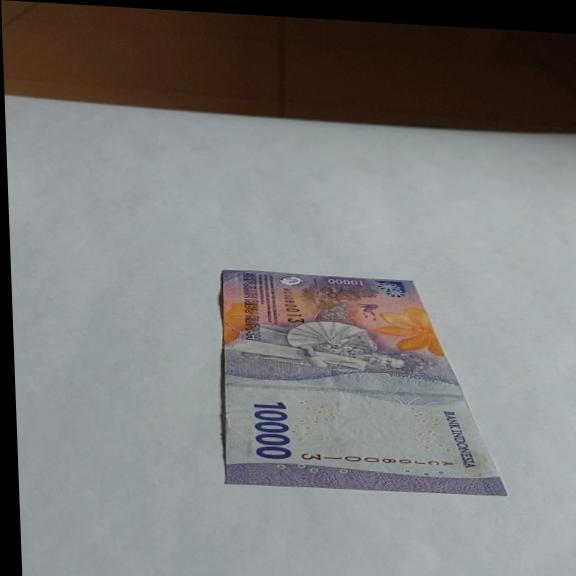Kertas: (215, 267, 508, 500), (251, 399, 293, 460)
